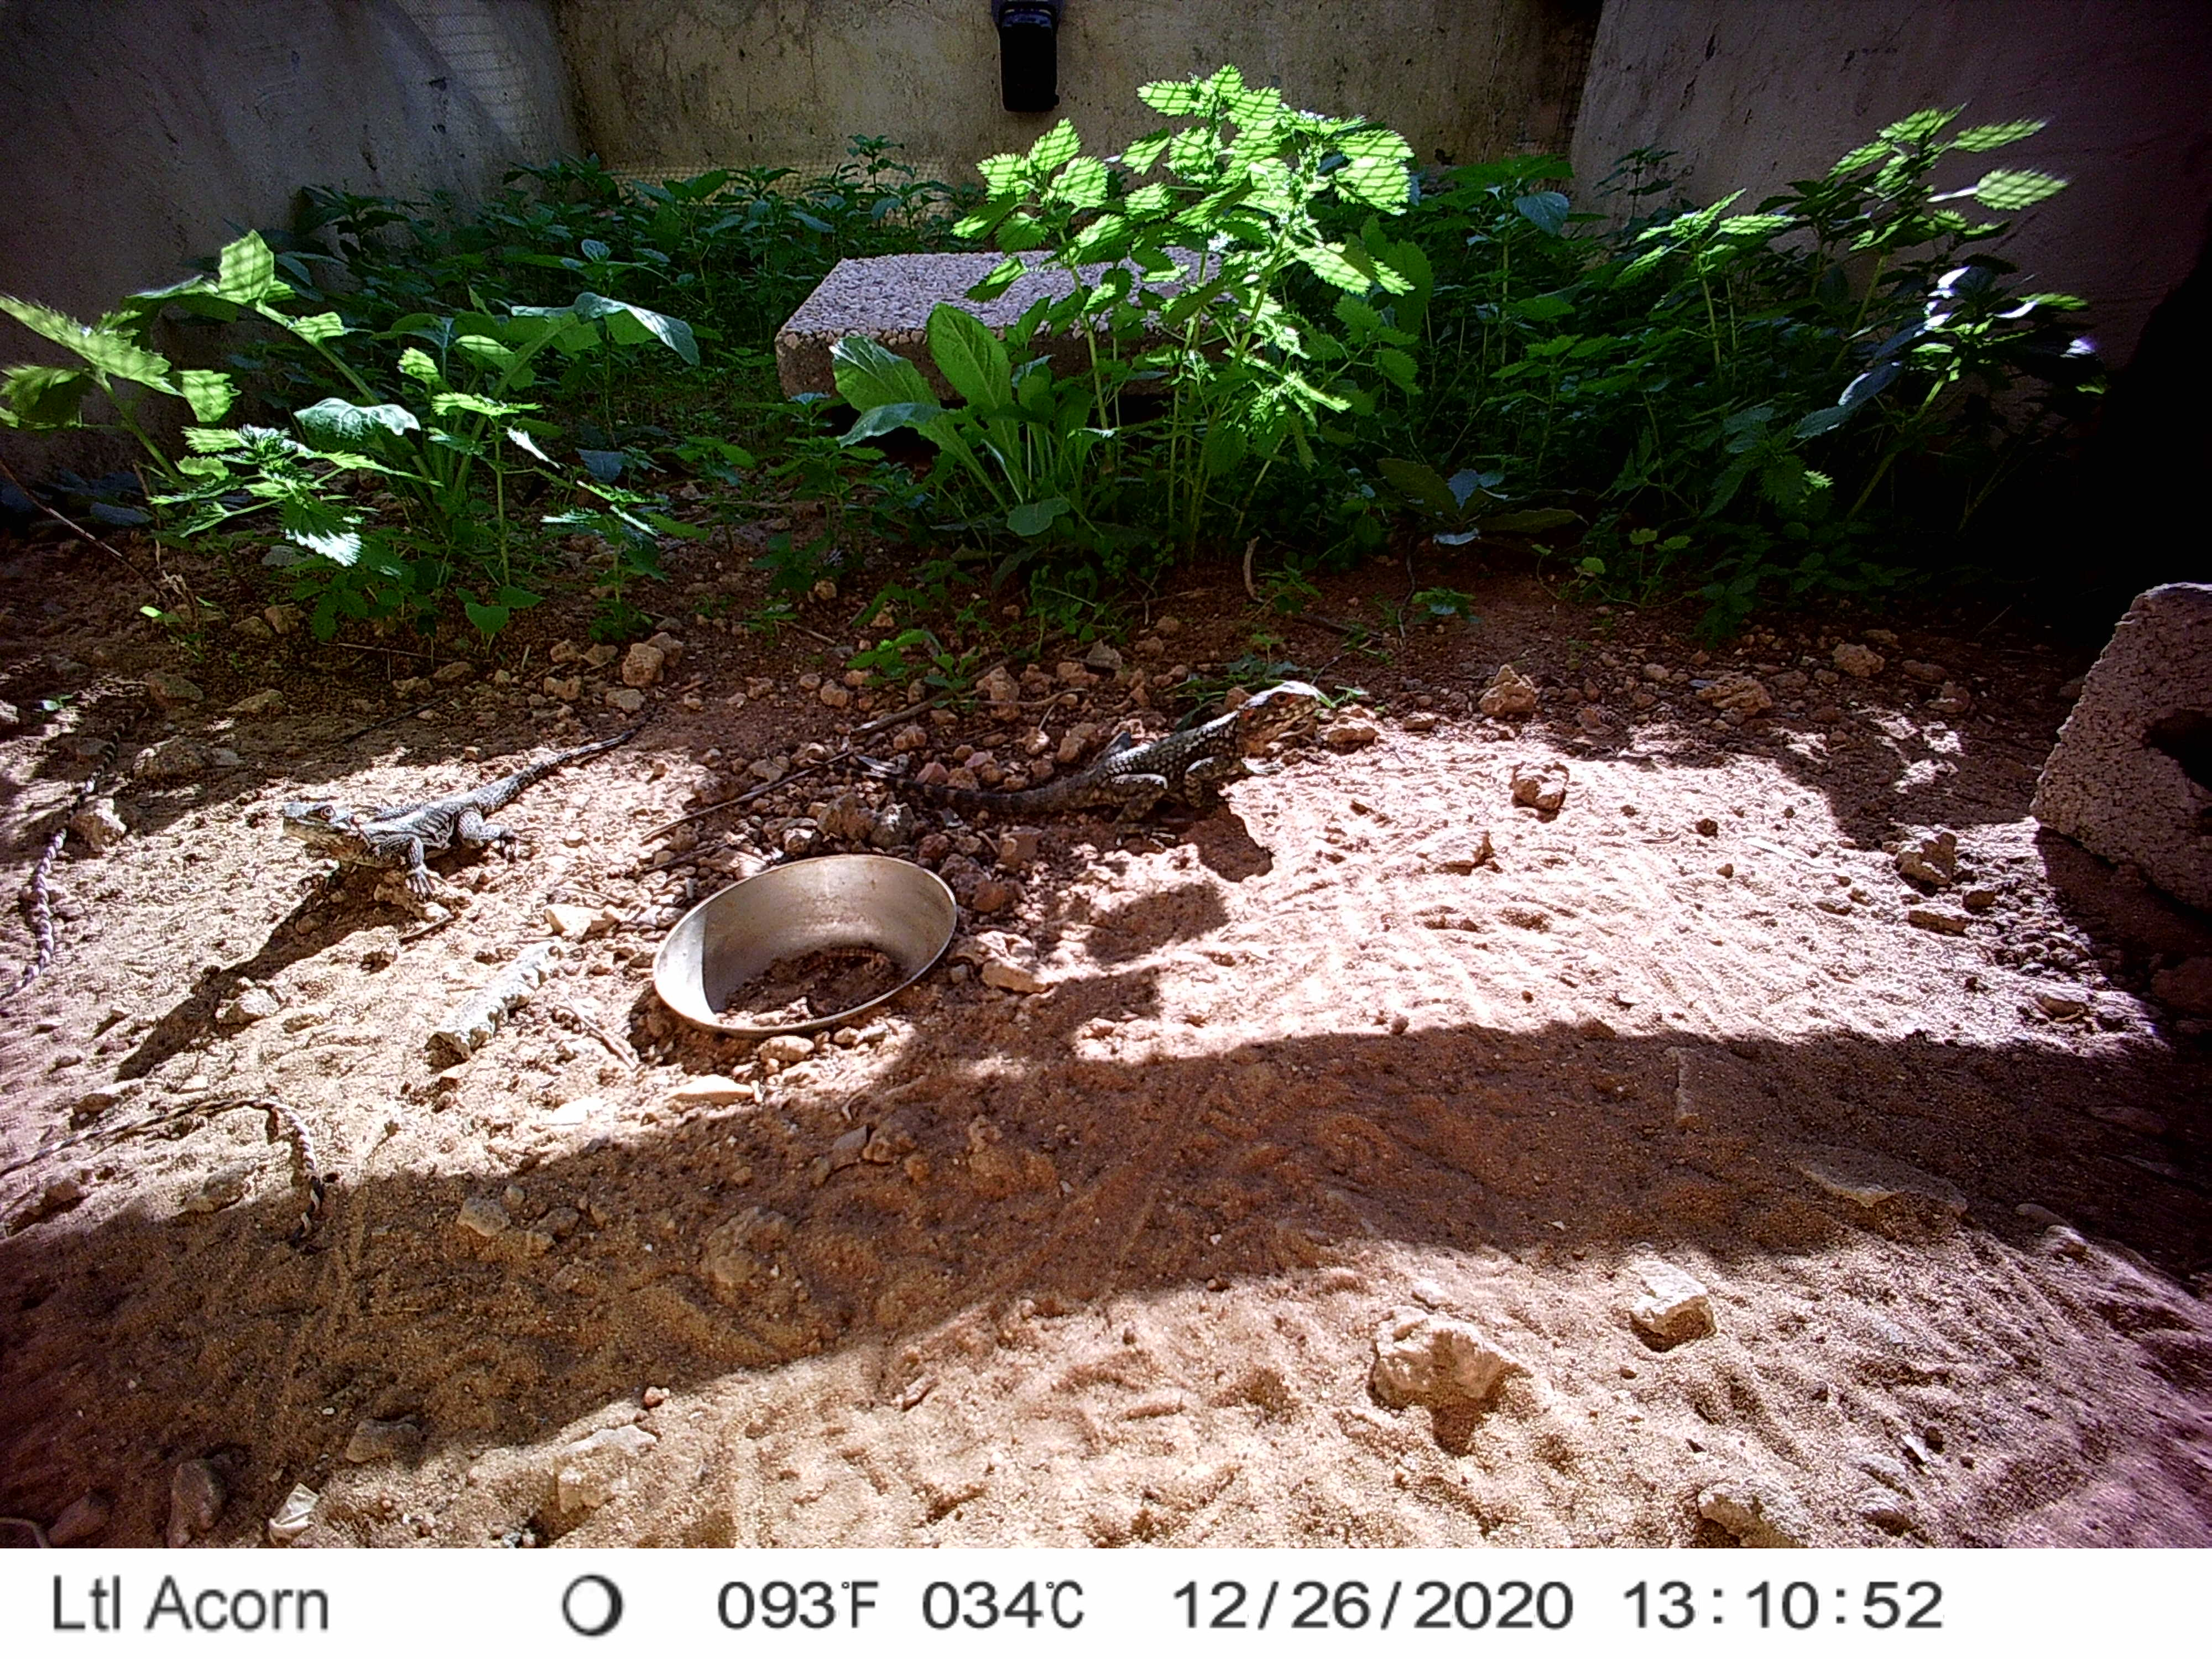lizard: (796, 674, 1332, 849), (275, 697, 658, 913)
